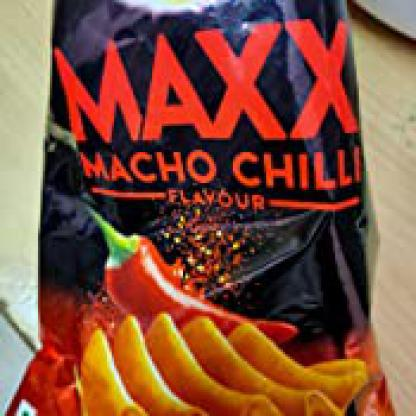max_chili: (41, 0, 385, 411)
